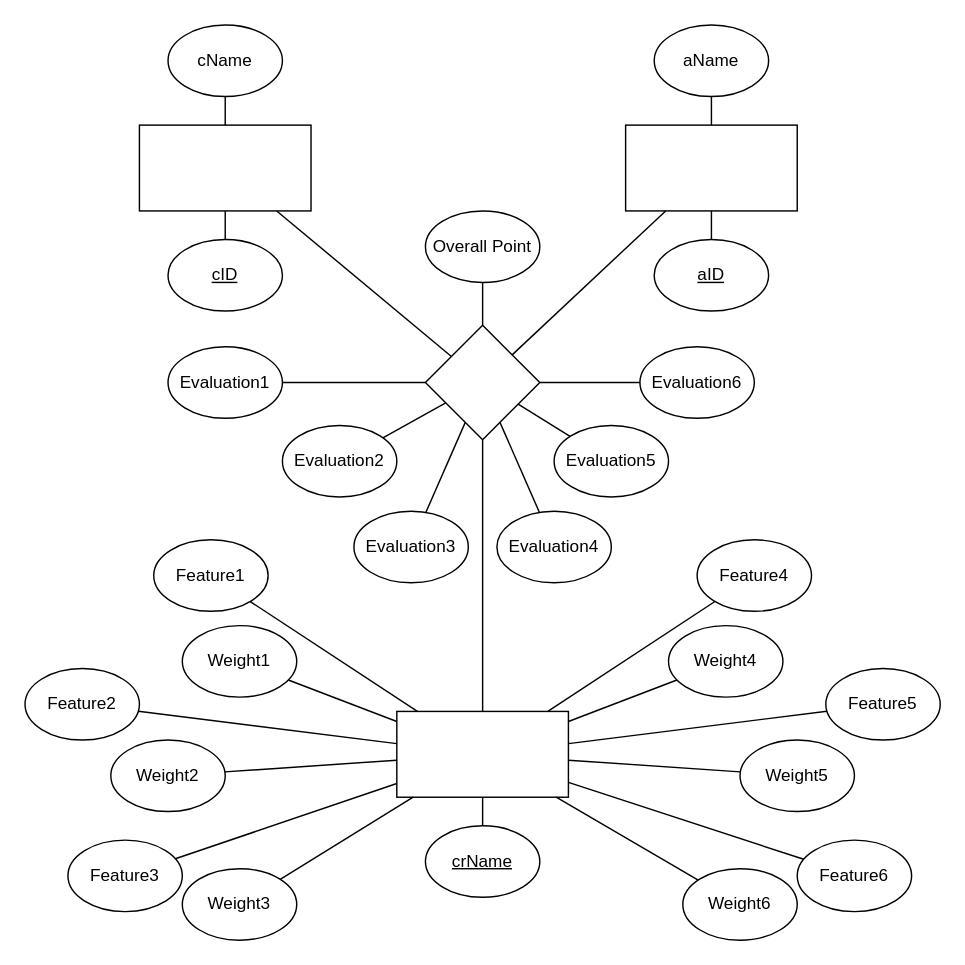
This 965x965 diagram has some shape labels left out. Each missing label, with the centre of its shape:
Admin: the point at 710,167
Candidate: the point at 224,167
Criterion List: the point at 481,753
Evaluate: the point at 482,382
